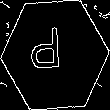P_S: (37, 29, 73, 81)
